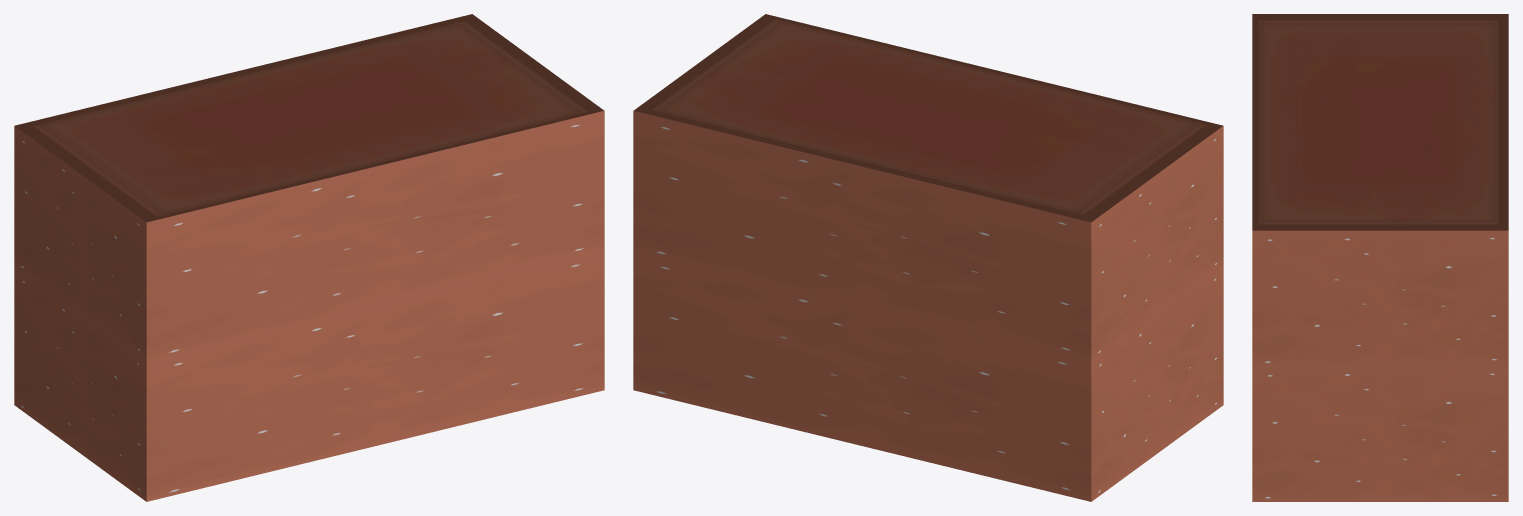
The model's file is WallBlock 74.fbx.
The picture shows the model from 3 angles, left to right: view 1: azimuth 30°, elevation 25°; view 2: azimuth 150°, elevation 25°; view 3: azimuth 270°, elevation 25°; orthographic projection. The views are drawn at different scales.
Visible parts, largest first — view 1: WallBlock 74; view 2: WallBlock 74; view 3: WallBlock 74.
Part boxes in pixels (x1=…): WallBlock 74: x1=14, y1=14, x2=604, y2=501; WallBlock 74: x1=633, y1=14, x2=1223, y2=501; WallBlock 74: x1=1252, y1=14, x2=1508, y2=501.
Size of the model in its own units: 1.2 by 0.7 by 0.6.
